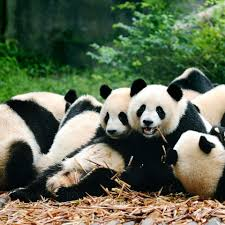panda: (88, 72, 210, 181)
